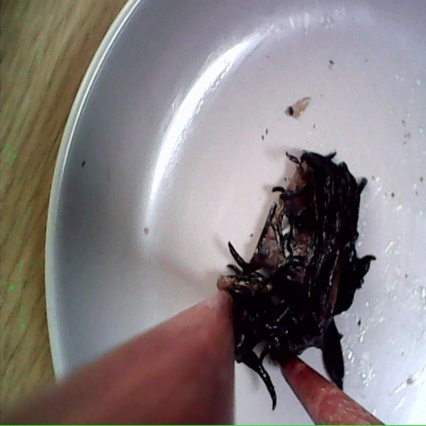black_hijiki: (206, 143, 361, 399)
